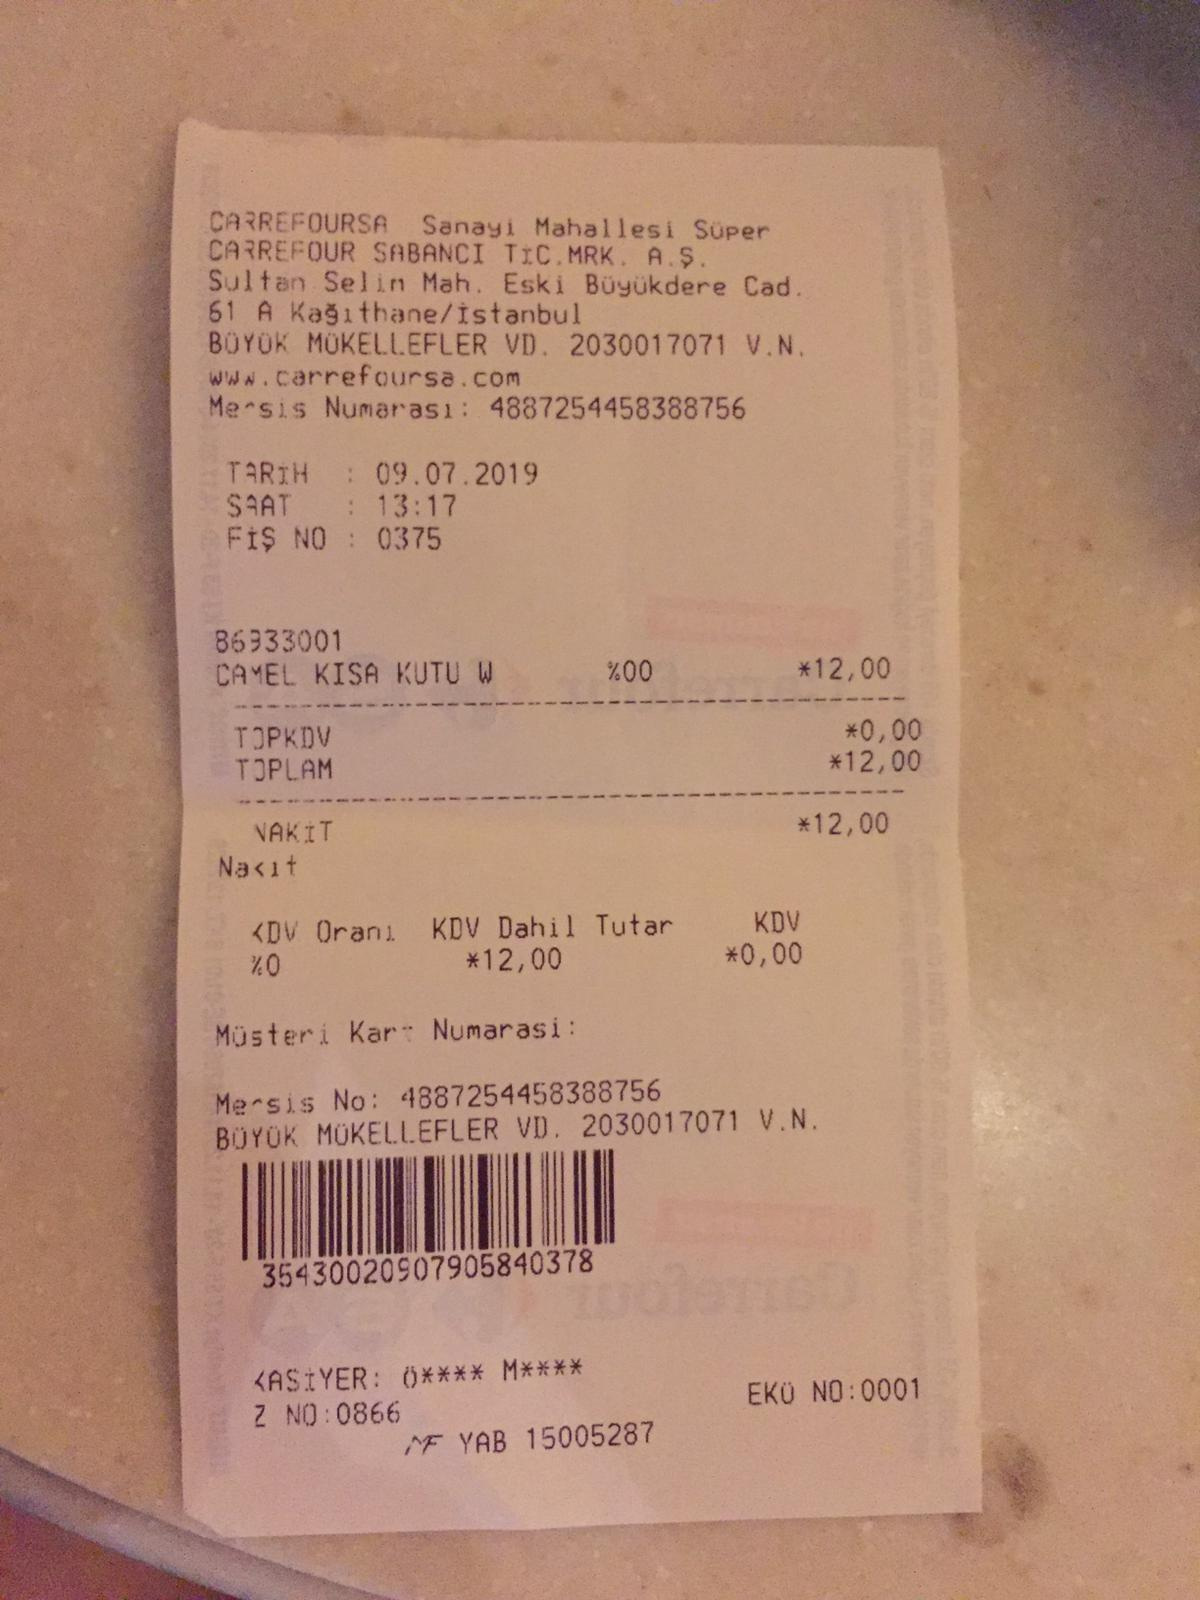total: (228, 747, 933, 788)
